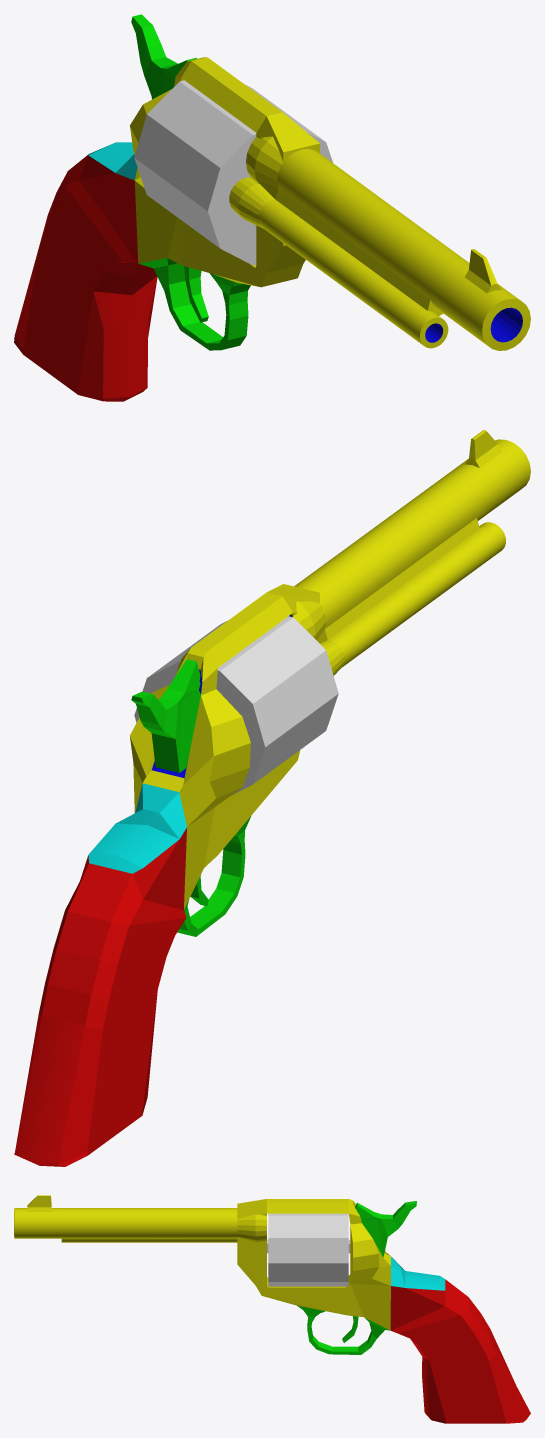
Rendered from Revolver.fbx.
The picture shows the model from 3 angles, top to bottom: view 1: azimuth 30°, elevation 25°; view 2: azimuth 150°, elevation 25°; view 3: azimuth 270°, elevation 25°; orthographic projection. The views are drawn at different scales.
Parts seen in each view (by area): view 1: Revolver, pCylinder4; view 2: Revolver, pCylinder4; view 3: Revolver, pCylinder4.
Boxes of the visible parts, x1,y1,x2,y2 form: Revolver: [14, 14, 530, 401]; pCylinder4: [134, 80, 332, 265]; Revolver: [14, 430, 530, 1166]; pCylinder4: [134, 616, 338, 795]; Revolver: [14, 1195, 530, 1423]; pCylinder4: [268, 1213, 348, 1286].
Size of the model in its own units: 5.98 by 17.9 by 37.55.
